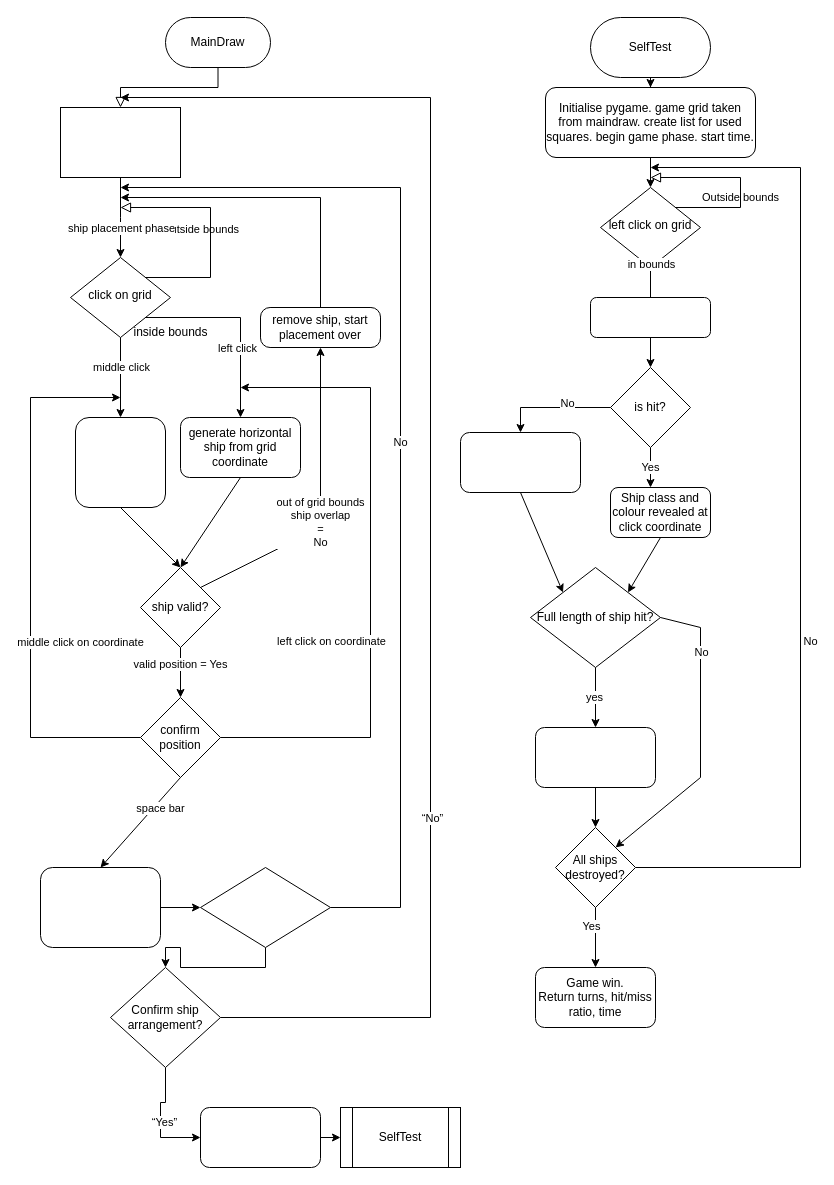
This 834x1185 diagram has some shape labels left out. Here are the shapes that lost their labels. From the top down, the centre of each, then its label:
At (120,142): "Generate blank grid to place ships upon, initialise pygame".
At (650,317): "append to used square list".
At (120,462): "generate vertical ship from grid coordinate down".
At (520,462): "grid coordinate marked as miss".
At (595,757): "animate destruction".
At (100,907): "ship position data written to grid. next ship queued for next placement phase.".
At (265,907): "5 ships placed?".
At (260,1137): "Return grid data as list".
